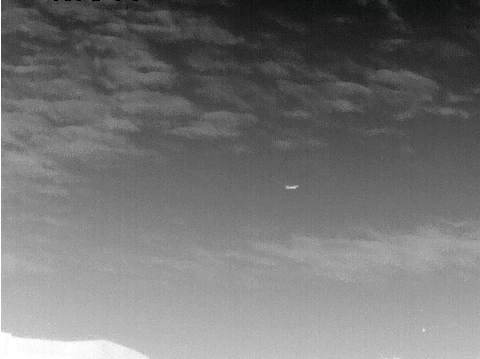dim target: (285, 184, 300, 190), (421, 327, 427, 333)
